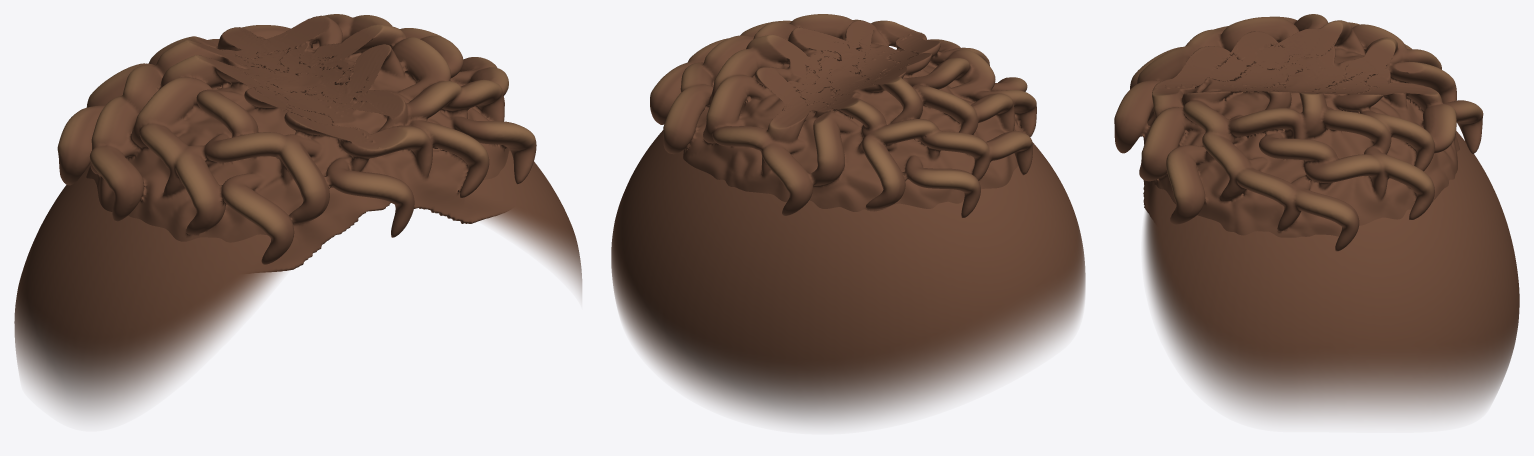
File: Ombre-28e74ff87962253-hair.glb
3 views of the same model, side by side, from view 1: azimuth 30°, elevation 25°; view 2: azimuth 150°, elevation 25°; view 3: azimuth 270°, elevation 25° (orthographic). The views are drawn at different scales.
Visible parts, largest first — view 1: 226 hair / Hair252 / sculpted curl groups.001, 226 hair / Hair252 / curly close fade coverage.001; view 2: 226 hair / Hair252 / curly close fade coverage.001, 226 hair / Hair252 / sculpted curl groups.001; view 3: 226 hair / Hair252 / curly close fade coverage.001, 226 hair / Hair252 / sculpted curl groups.001.
Boxes of the visible parts, <box> form: 226 hair / Hair252 / sculpted curl groups.001: <box>57,14,536,272</box>; 226 hair / Hair252 / curly close fade coverage.001: <box>14,68,581,416</box>; 226 hair / Hair252 / curly close fade coverage.001: <box>611,62,1085,424</box>; 226 hair / Hair252 / sculpted curl groups.001: <box>650,14,1036,217</box>; 226 hair / Hair252 / curly close fade coverage.001: <box>1143,73,1519,419</box>; 226 hair / Hair252 / sculpted curl groups.001: <box>1114,14,1483,251</box>.
Size of the model in its own units: 0.976 by 0.6999 by 0.762.
Materials: 2 (2 with a texture image).
